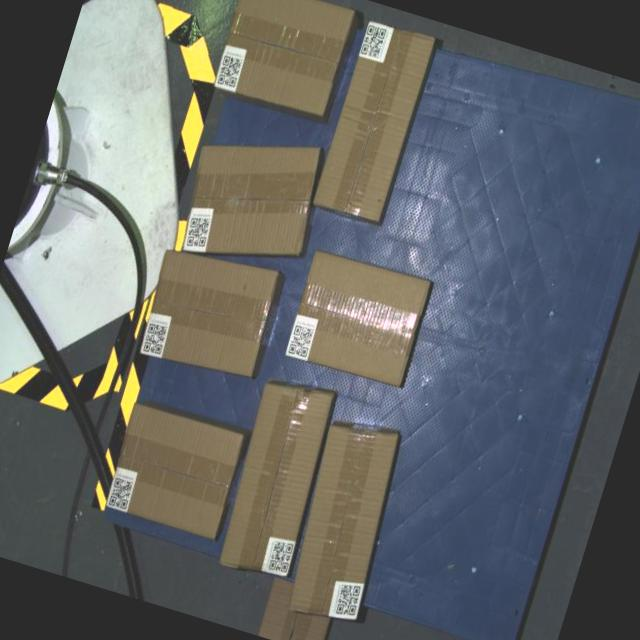box: (274, 414, 412, 630), (170, 114, 331, 285), (211, 375, 341, 583), (312, 17, 435, 224), (134, 238, 282, 386), (284, 246, 432, 390), (102, 400, 247, 540), (211, 0, 354, 119)
